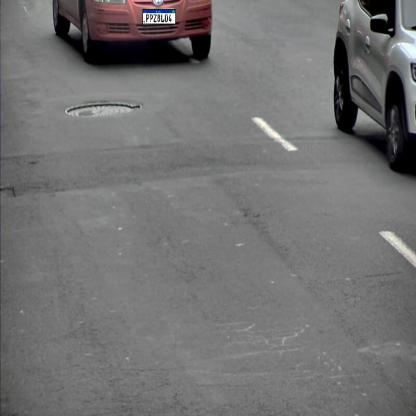PlacaM: (142, 9, 176, 24)
